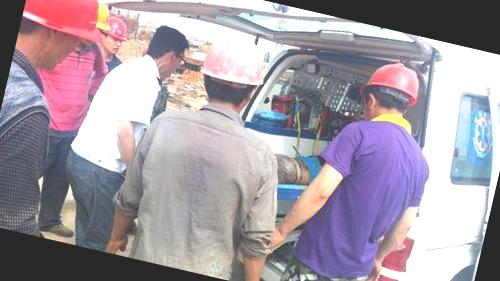no_helmet: (136, 16, 200, 85)
